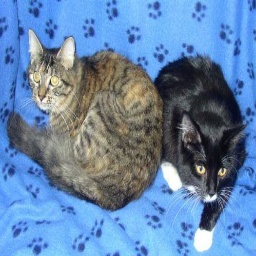cat: (6, 26, 247, 253)
